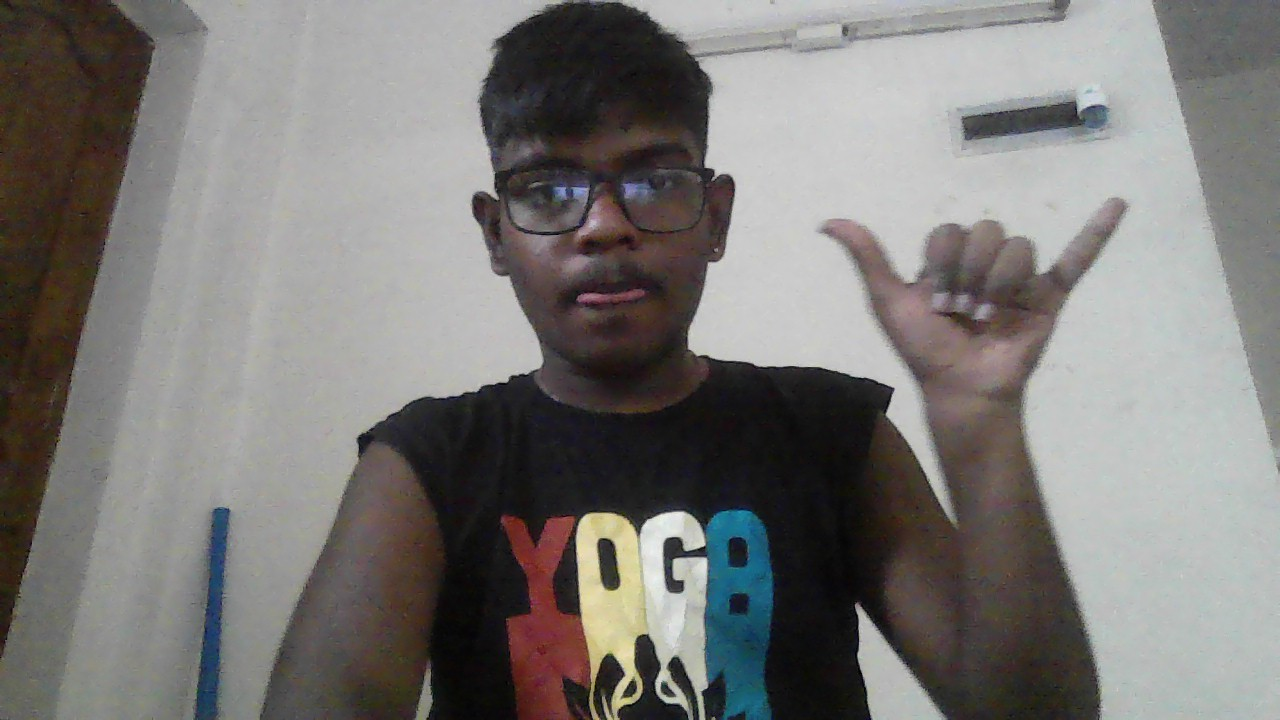Y: (819, 197, 1129, 402)
